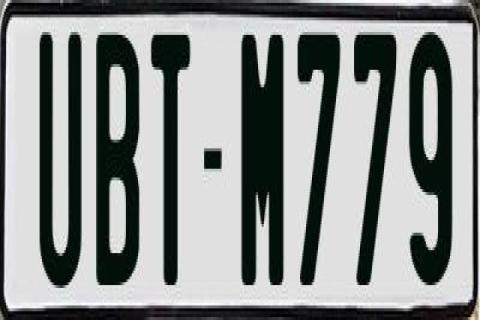0: (406, 27, 452, 297), (354, 32, 398, 291), (298, 29, 342, 282)
B: (96, 29, 140, 282)
M: (242, 32, 286, 294)
T: (148, 29, 190, 291)
U: (40, 26, 88, 300)
